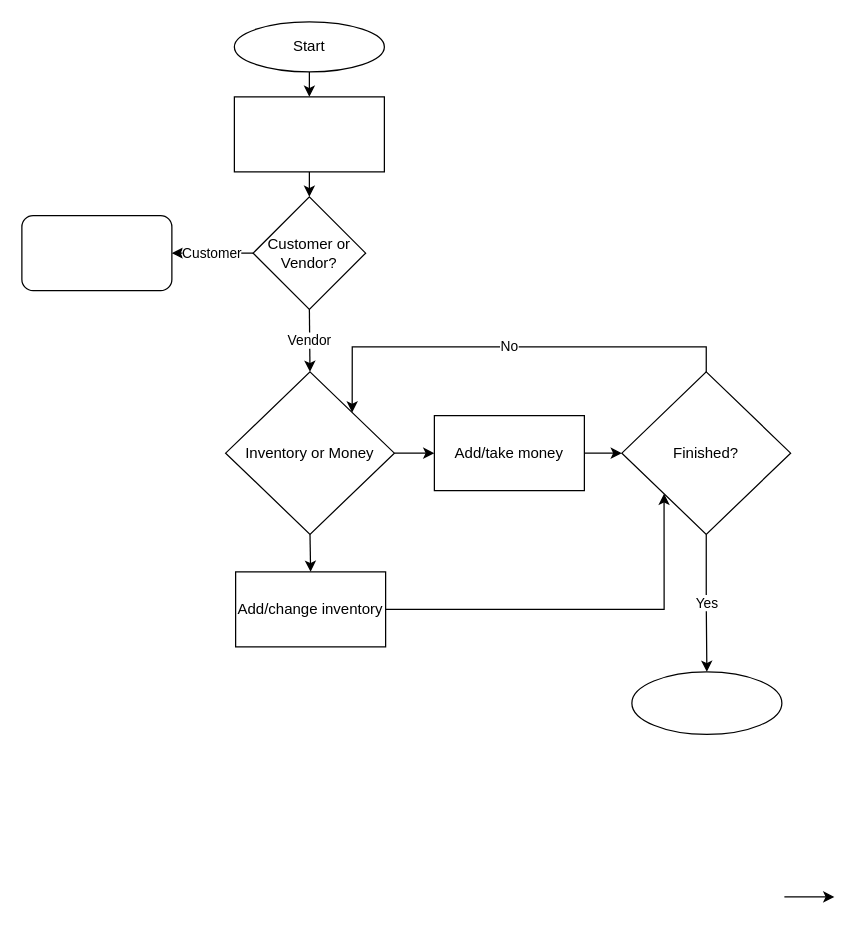
The diagram is 866 pixels wide and 929 high, and some of its shapes have lost their labels. The shapes that lost their labels are listed below. From the top down, each one's centre as x and y in pixels, then its label:
At (x=308, y=134): "Display store front".
At (x=96, y=252): "See Customer Chart".
At (x=706, y=702): "Done;".
